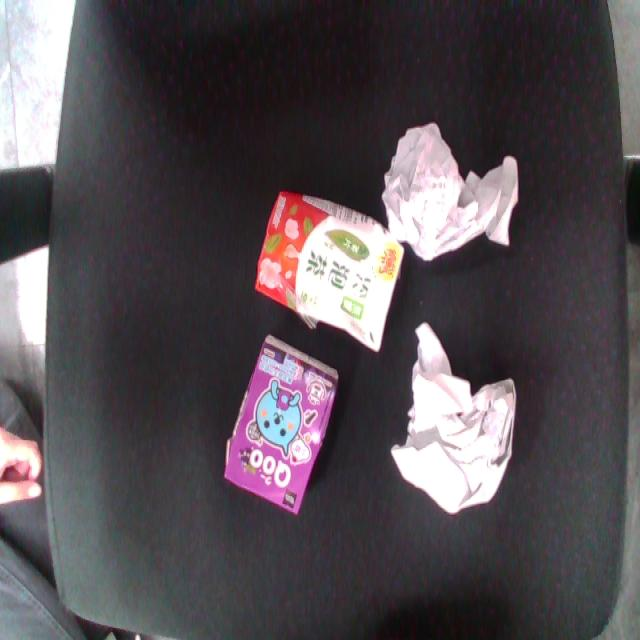juicebox: (225, 178, 424, 367), (203, 322, 358, 531)
paper: (347, 310, 552, 548), (362, 107, 550, 297)
